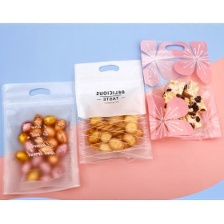snack: (69, 55, 160, 170), (0, 76, 85, 199), (135, 35, 223, 145)
